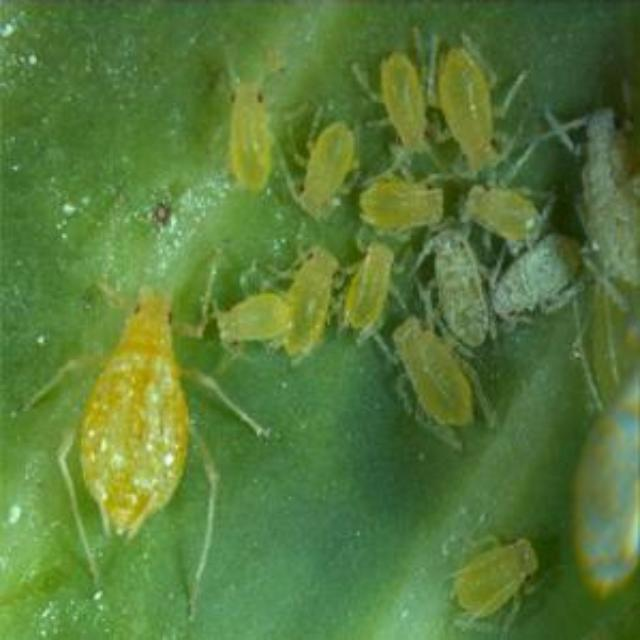Green peach aphid: (29, 236, 251, 598), (556, 87, 640, 319), (377, 302, 489, 456), (353, 12, 452, 166), (196, 53, 296, 203), (436, 508, 556, 624), (409, 228, 515, 358), (266, 228, 350, 388), (484, 232, 594, 350), (207, 273, 297, 385), (284, 110, 366, 218), (352, 160, 446, 240), (457, 172, 547, 254), (416, 108, 516, 174)
